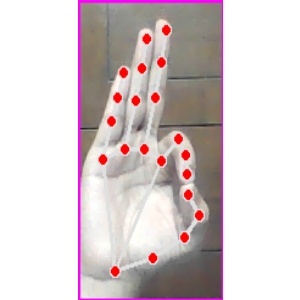F: (79, 2, 221, 300)
